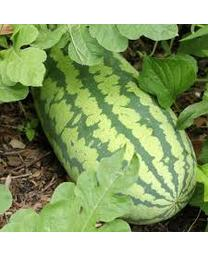watermelon: (29, 42, 197, 225)
